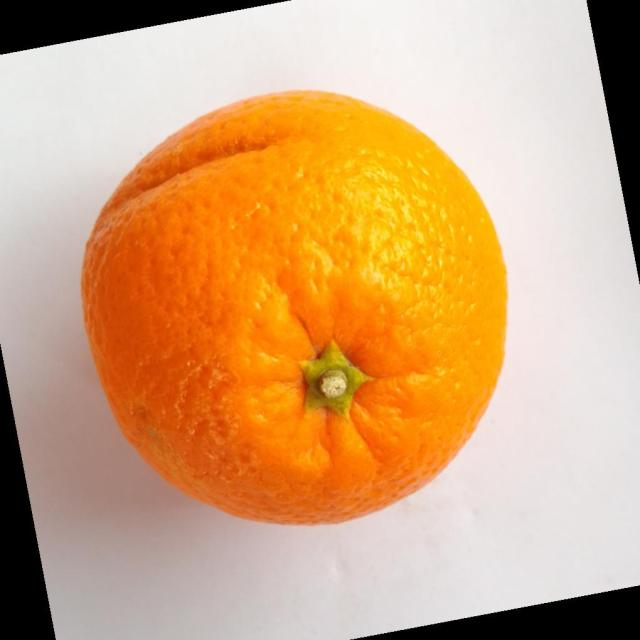fresh orange: (80, 88, 509, 526)
